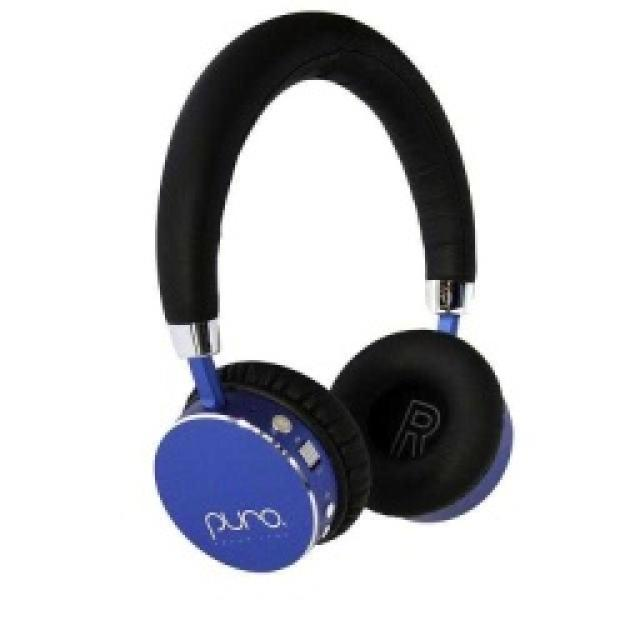headphones: (150, 8, 512, 572)
